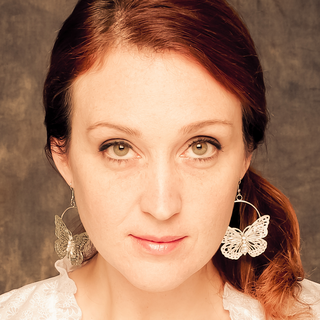eye: (93, 135, 140, 161), (181, 133, 225, 158)
